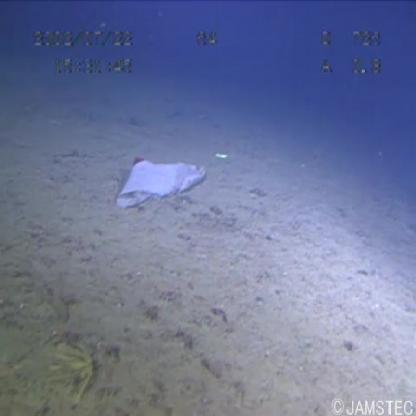Rác: (107, 140, 210, 215)
